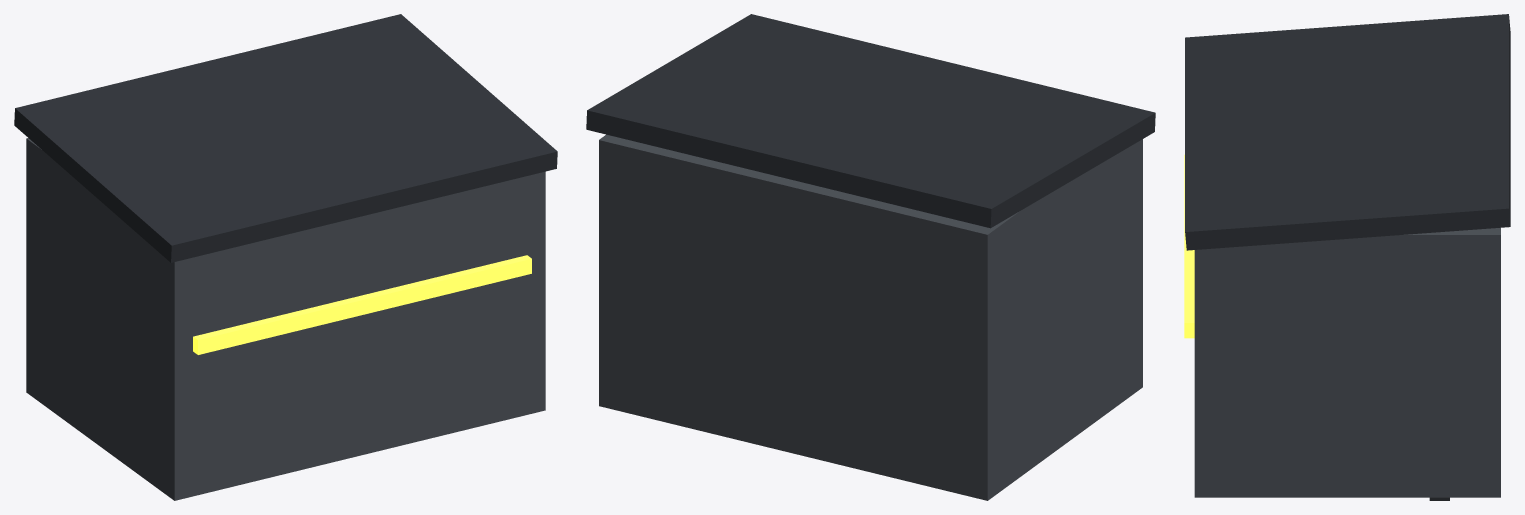
Rendered from dumpster.glb.
3 views of the same model, side by side, from view 1: azimuth 30°, elevation 25°; view 2: azimuth 150°, elevation 25°; view 3: azimuth 270°, elevation 25° (orthographic). The views are drawn at different scales.
Visible parts, largest first — view 1: dumpster; view 2: dumpster; view 3: dumpster.
Boxes of the visible parts, bbox=[...] form: dumpster: bbox=[14, 14, 557, 500]; dumpster: bbox=[586, 14, 1155, 500]; dumpster: bbox=[1184, 14, 1510, 500].
Bounding box in the file's own units: 2.7 × 2.06 × 1.92.
